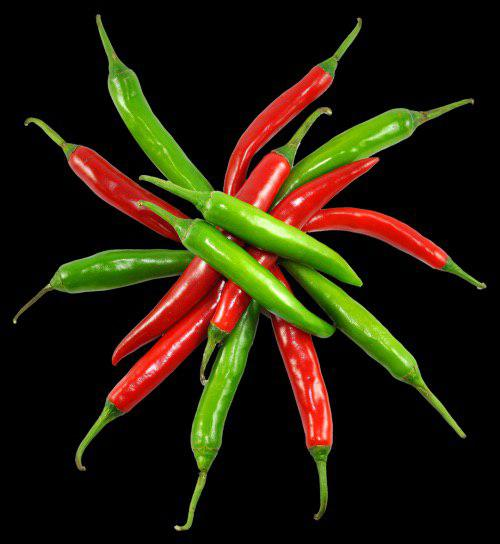lada hijau: (175, 217, 336, 349), (94, 39, 211, 205), (299, 263, 431, 405), (194, 187, 362, 289), (175, 315, 270, 488), (284, 96, 428, 188), (27, 243, 190, 305)
lada merah: (218, 35, 346, 186), (103, 299, 221, 434), (63, 134, 192, 243), (322, 197, 470, 283), (278, 324, 337, 489)
